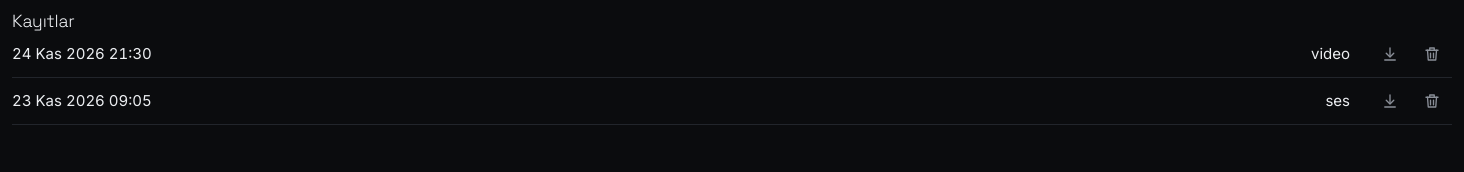
Test: recording actions › confirming deletes the file, refreshes the list, notifies, and focuses the next row
The image size is (1464, 172).
Click the 1st button named "Sil" at (1432, 54), box x1=1412 y1=34 x2=1452 y2=74
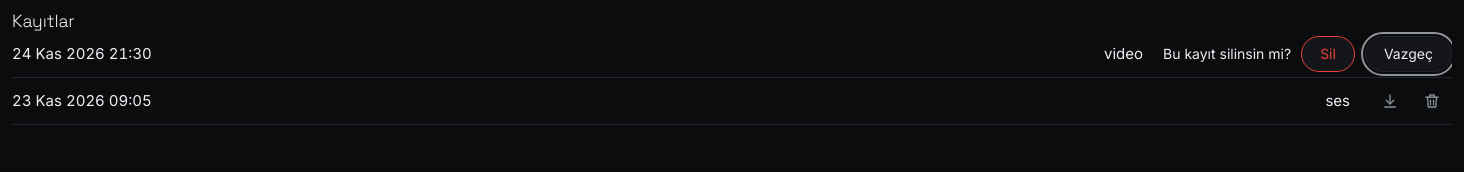
Click the button "Sil" at (1328, 54), box x1=1301 y1=36 x2=1355 y2=72
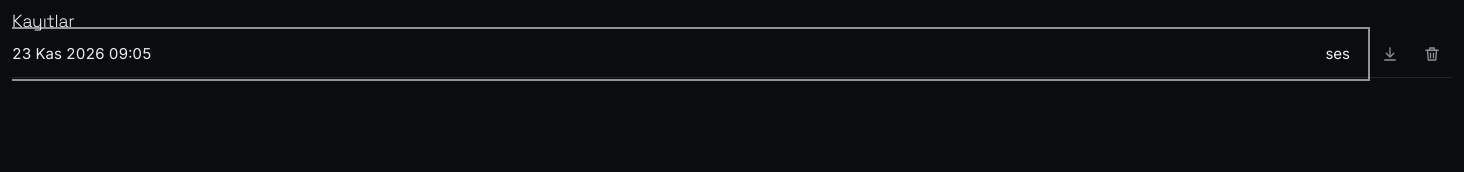
Now the number of list items is 1, box x1=12 y1=31 x2=1452 y2=78
